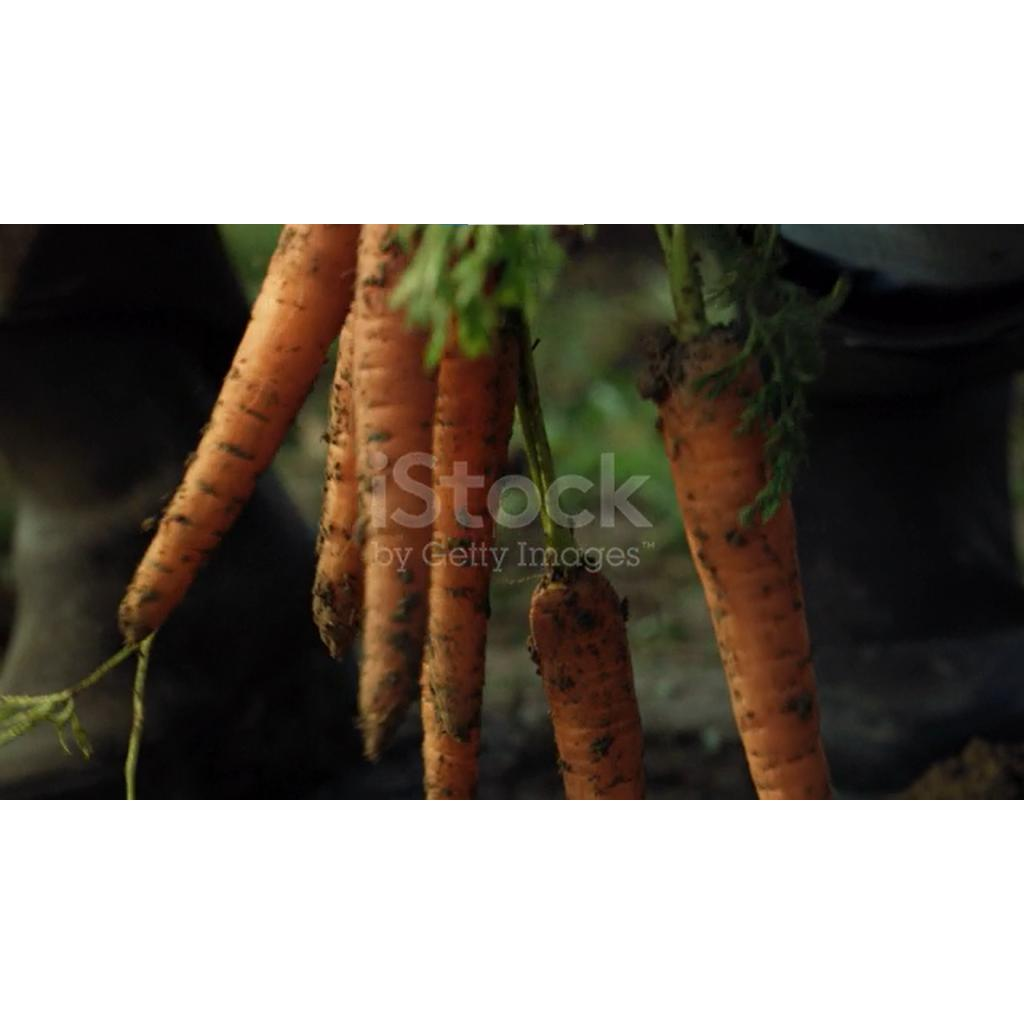carrot: (118, 224, 360, 642), (658, 329, 836, 800), (420, 332, 518, 798), (352, 224, 436, 760), (530, 568, 644, 800), (312, 310, 362, 658)
